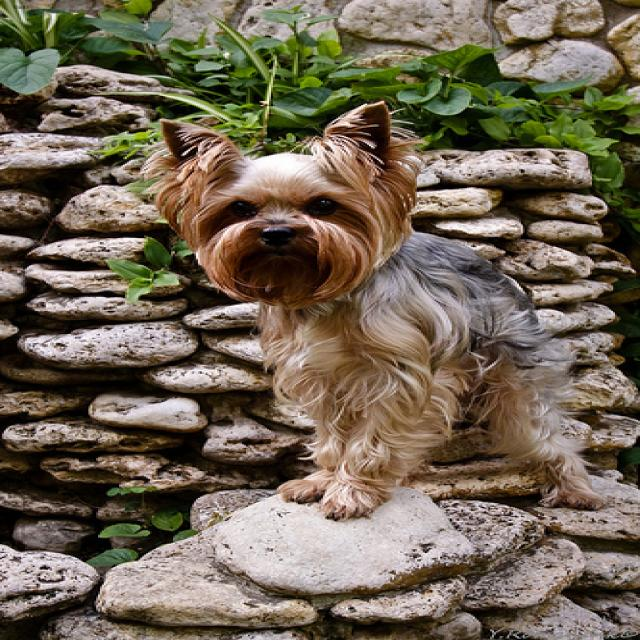dog-yorkshire_terrier: (127, 95, 621, 529)
